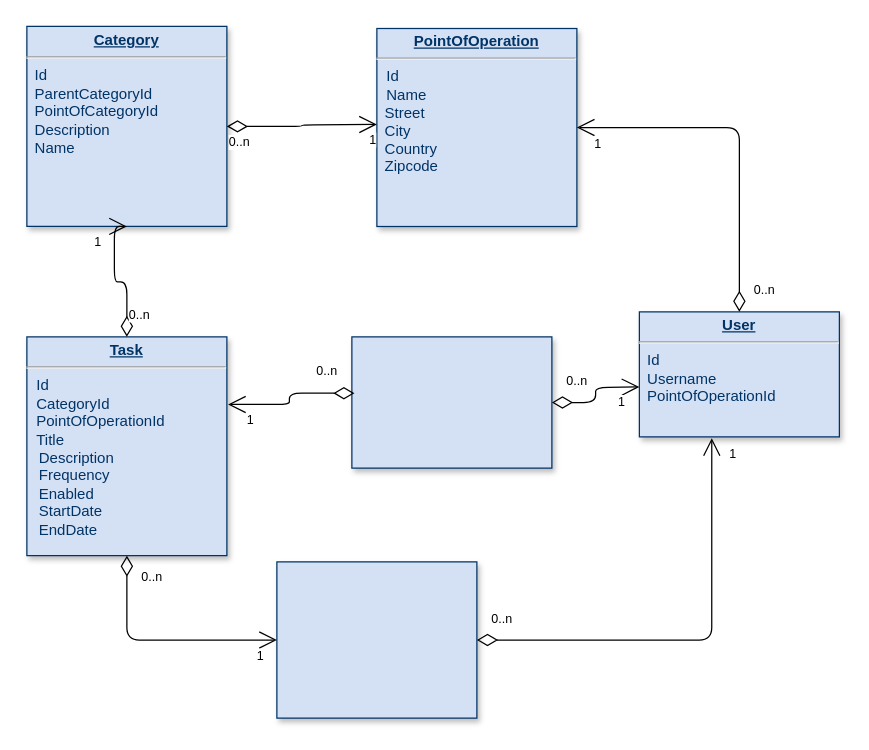
The diagram is 869 pixels wide and 750 high, and some of its shapes have lost their labels. The centre of each missing label's shape, as x and y in pixels:
"Subscription Id UserId TaskId Token" goes at point 452,404.
"TaskActivity Id TaskId UserId Date Done" goes at point 377,641.
